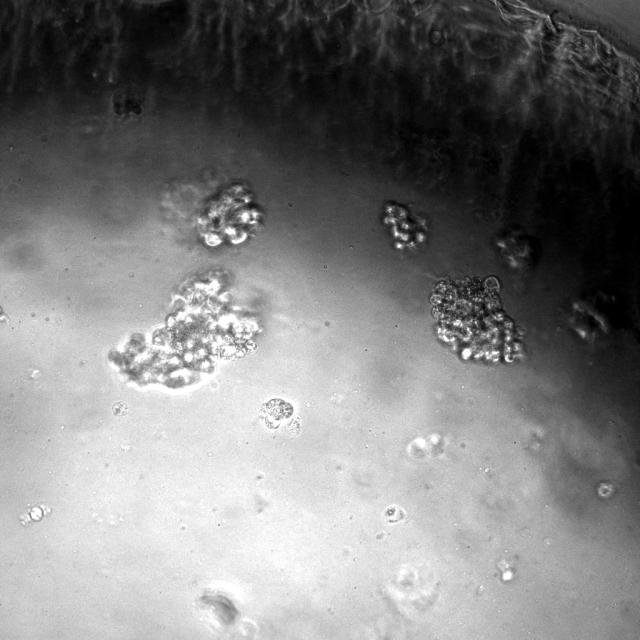organoid: (108, 270, 259, 390), (431, 276, 522, 363), (197, 181, 263, 247), (382, 200, 428, 250), (493, 224, 539, 271), (257, 398, 294, 430), (111, 83, 146, 116)
